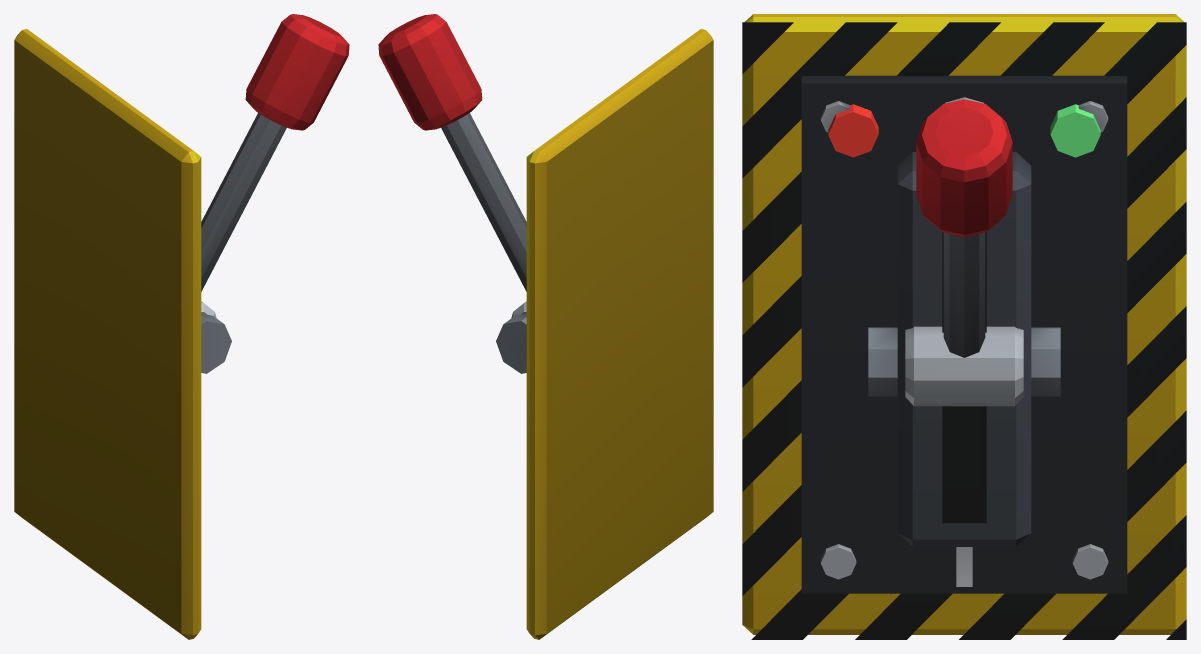
File: switch_lever.glb
3 renders of one model, left to right at view 1: azimuth 30°, elevation 25°; view 2: azimuth 150°, elevation 25°; view 3: azimuth 270°, elevation 25°, orthographic. The views are drawn at different scales.
Parts seen in each view (by area): view 1: Body, Lever; view 2: Body, Lever; view 3: Body, Lever, Light_glow.
Boxes of the visible parts, x1,y1,x2,y2 form: Body: [14, 29, 231, 639]; Lever: [201, 14, 349, 317]; Body: [496, 29, 713, 639]; Lever: [378, 14, 526, 317]; Body: [742, 14, 1186, 639]; Lever: [905, 99, 1023, 406]; Light_glow: [828, 104, 1100, 157].
Bounding box in the file's own units: 0.4869 × 0.9676 × 0.6.
